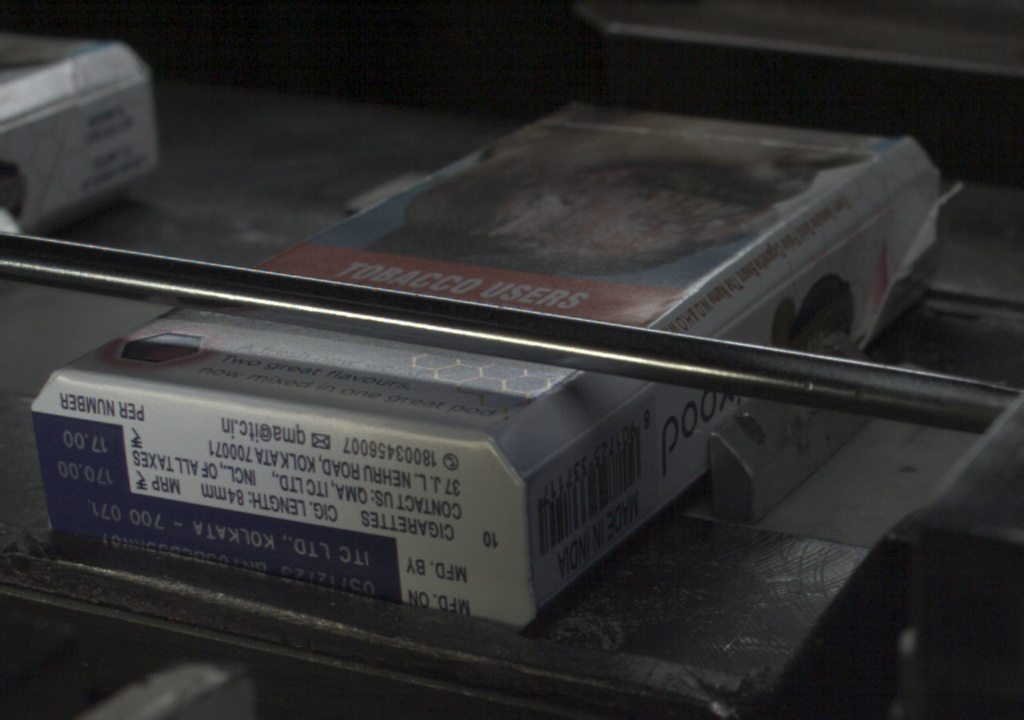g_bottom: (28, 371, 525, 628)
g_label: (45, 490, 409, 603)
g_lmiter: (714, 268, 797, 333), (801, 201, 880, 265), (525, 430, 586, 478), (590, 381, 647, 426)
ng_miter: (895, 177, 956, 276)
price: (35, 420, 128, 491)
